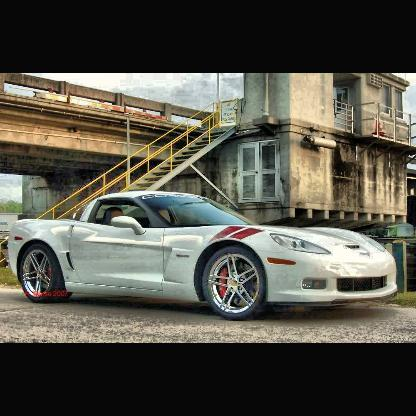Chevrolet Corvette Ron Fellows Edition Z06 2007: (8, 190, 400, 321)
